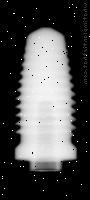Nobel Biocare: (14, 25, 78, 170)
